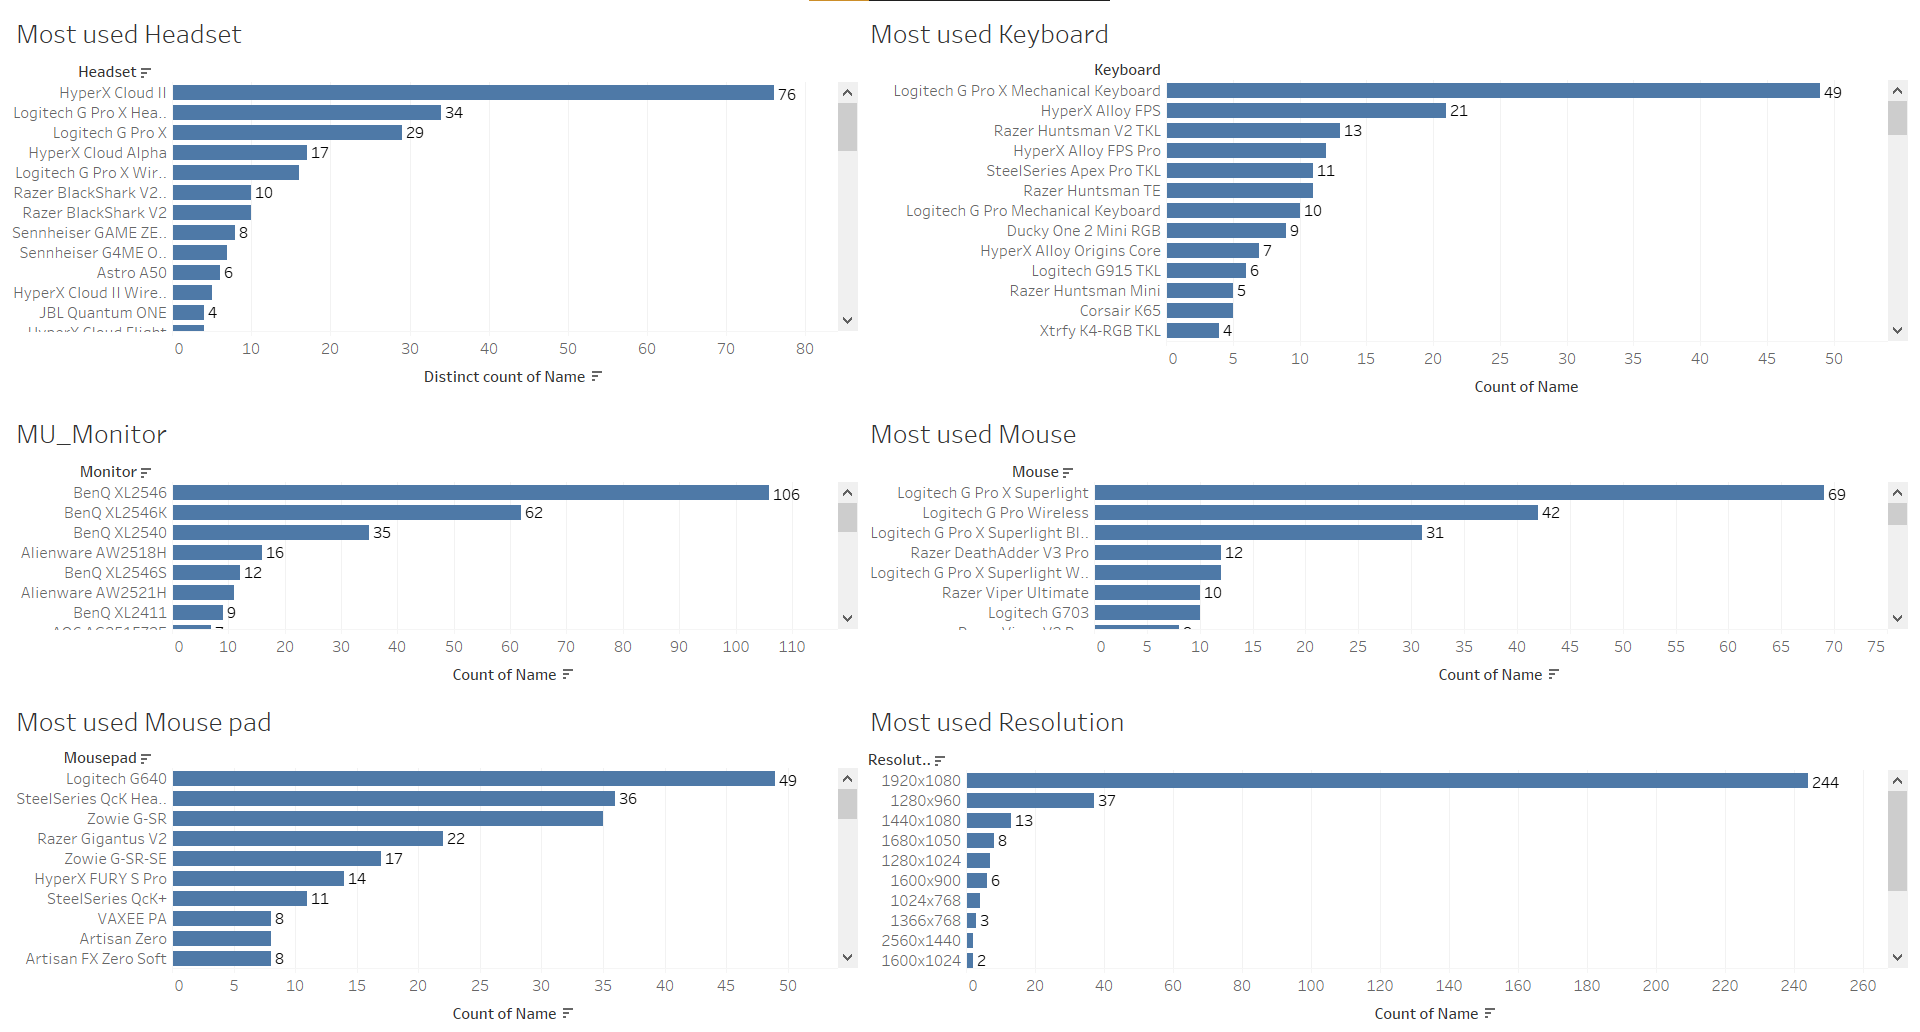

The dashboard page shown, as its layout file describes it:
{"tool":"tableau","page":{"name":"Gear","canvas":[1000,1000],"units":"permille","ordinal":0},"visuals":[{"type":"worksheet","title":"MU_HS","mark":"Automatic","rows":["Headset"],"cols":["Name"],"box":[5.5,9.3,362.9,382.1]},{"type":"worksheet","title":"MU_KB","mark":"Automatic","rows":["Keyboard"],"cols":["Name"],"box":[368.5,9.3,626,382.1]},{"type":"worksheet","title":"MU_Monitor","mark":"Automatic","rows":["Monitor"],"cols":["Name"],"box":[5.5,391.4,362.9,275.2]},{"type":"worksheet","title":"MU_Mouse","mark":"Automatic","rows":["Mouse"],"cols":["Name"],"box":[368.5,391.4,626,275.3]},{"type":"worksheet","title":"MU_MP","mark":"Automatic","rows":["Mousepad"],"cols":["Name"],"box":[5.5,666.6,362.9,324.1]},{"type":"worksheet","title":"MU_Reso","mark":"Automatic","rows":["Resolution"],"cols":["Name"],"box":[368.5,666.7,626,324]}]}

Visuals, with their boxes on the dashboard's canvas, which has no fixed pixel size, in thousandths of its width and height (x1, y1, x2, y2). These are canvas units, not pixel positions in the 1920x1032 screenshot, which may show the page scaled, cropped or inside an application window:
"MU_HS" worksheet: detection(6, 9, 368, 391)
"MU_KB" worksheet: detection(368, 9, 994, 391)
"MU_Monitor" worksheet: detection(6, 391, 368, 667)
"MU_Mouse" worksheet: detection(368, 391, 994, 667)
"MU_MP" worksheet: detection(6, 667, 368, 991)
"MU_Reso" worksheet: detection(368, 667, 994, 991)
